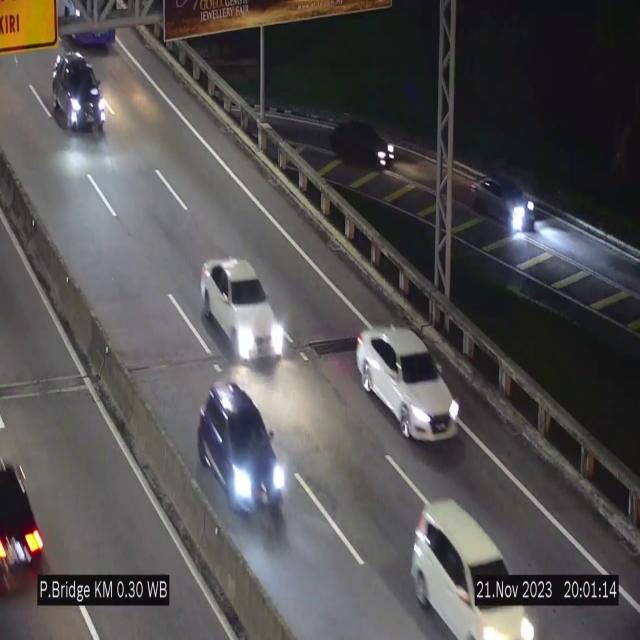Bus: (54, 0, 121, 45)
Car: (412, 500, 538, 640), (198, 381, 288, 519), (356, 326, 461, 438), (200, 259, 286, 361), (52, 50, 108, 138)
